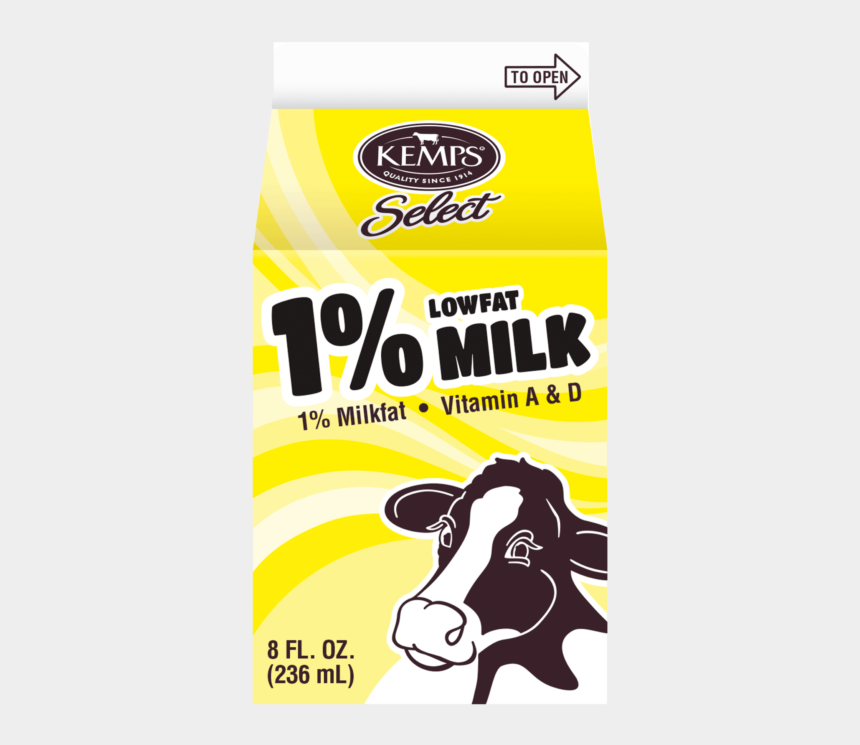Milk_Carton: (250, 38, 607, 711)
